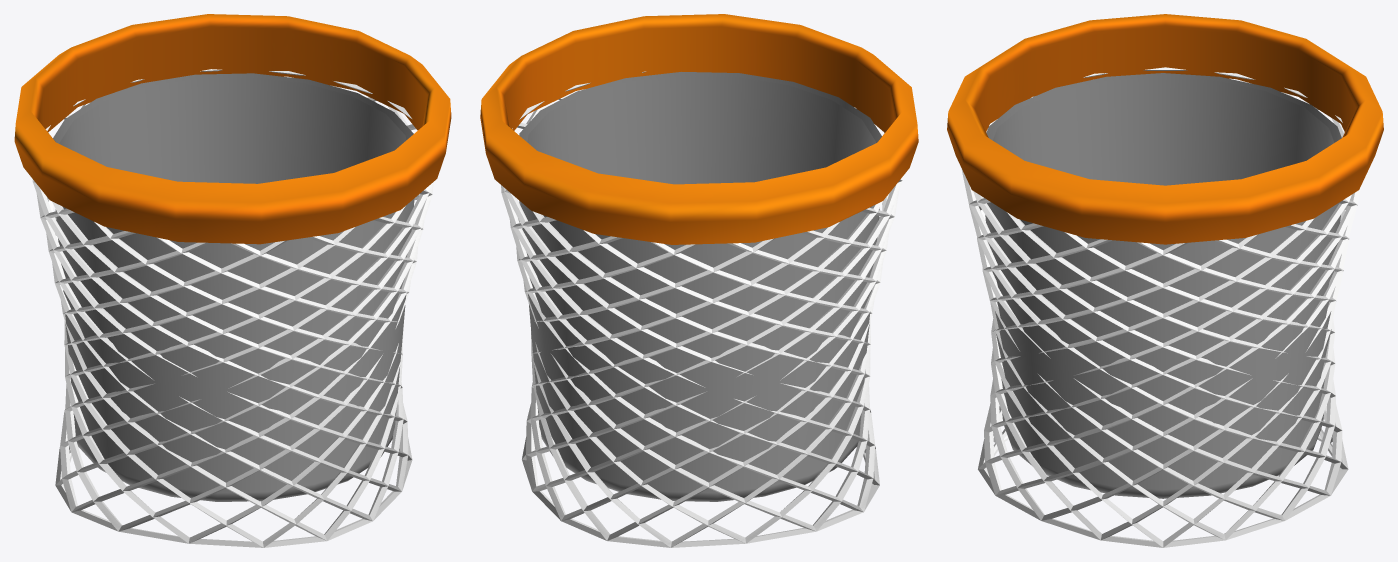
The model's file is 57_Holder_Basketball.fbx.
3 renders of one model, left to right at view 1: azimuth 30°, elevation 25°; view 2: azimuth 150°, elevation 25°; view 3: azimuth 270°, elevation 25°, orthographic.
Parts seen in each view (by area): view 1: Basketball_part02, Basketball_part01; view 2: Basketball_part02, Basketball_part01; view 3: Basketball_part02, Basketball_part01.
Boxes of the visible parts, x1,y1,x2,y2 form: Basketball_part02: (14, 14, 451, 547); Basketball_part01: (53, 73, 414, 501); Basketball_part02: (480, 14, 918, 547); Basketball_part01: (519, 72, 881, 501); Basketball_part02: (947, 14, 1383, 547); Basketball_part01: (985, 73, 1341, 498).
Bounding box in the file's own units: 2.67 × 2.49 × 2.67.
